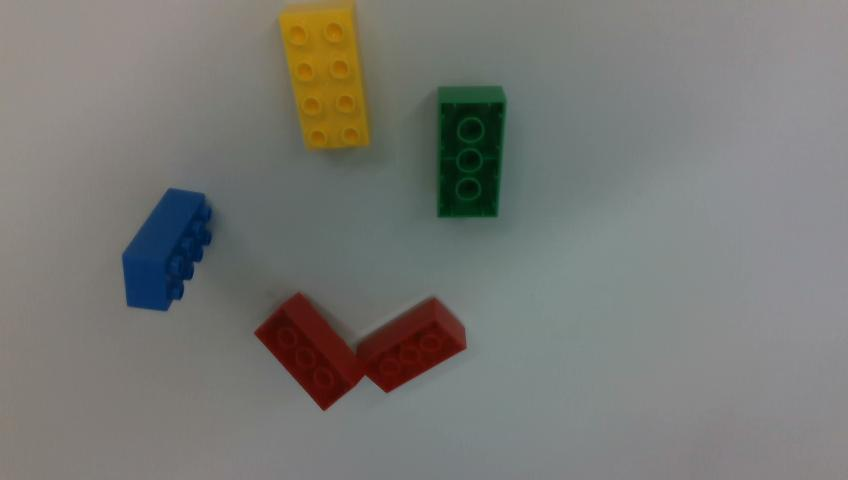4x2_blue: (123, 190, 211, 310)
4x2_green: (438, 86, 505, 217)
4x2_red: (254, 293, 368, 412), (357, 294, 468, 392)
4x2_yellow: (279, 0, 370, 147)
